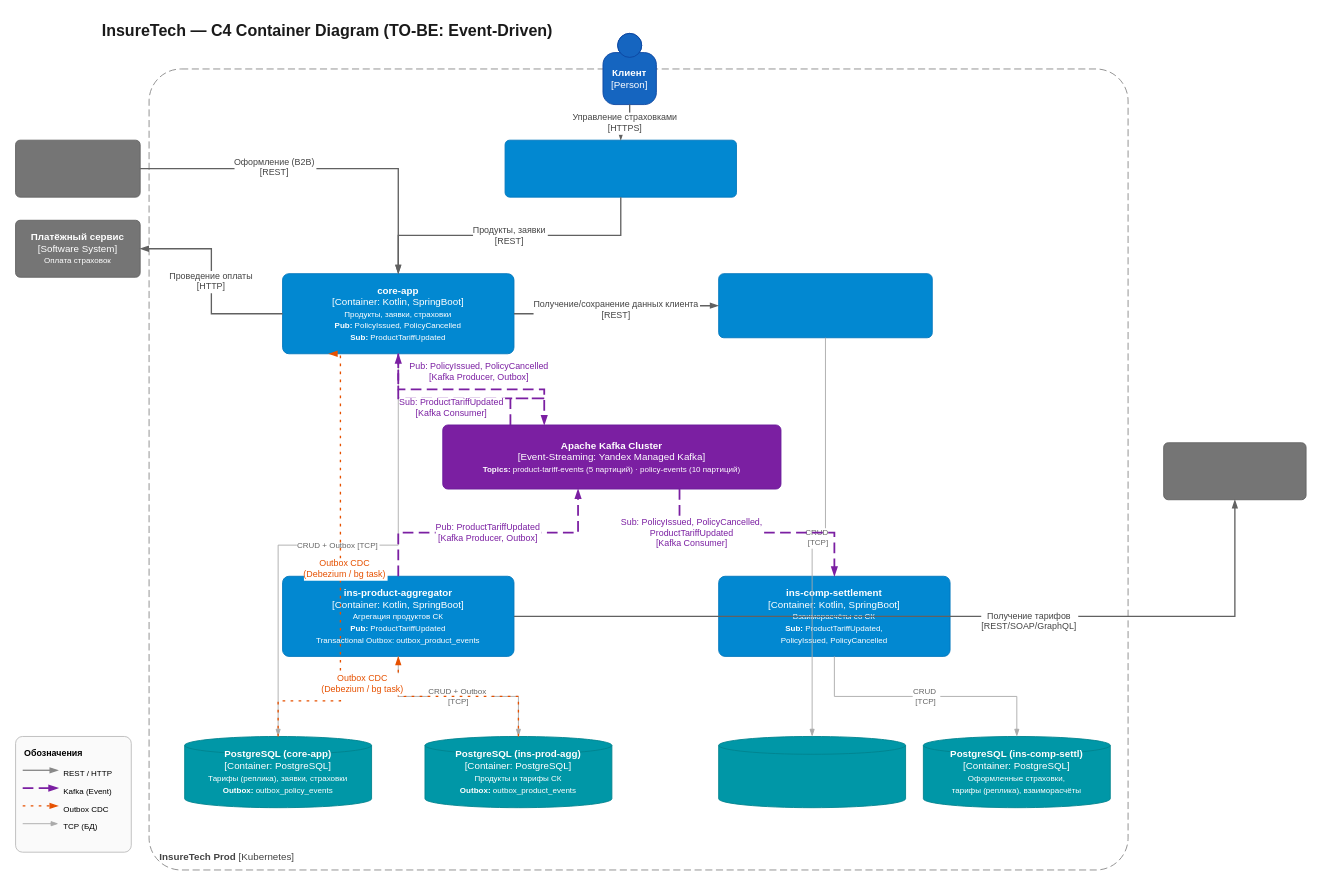
The diagram is 1322 pixels wide and 886 high, and some of its shapes have lost their labels. Each missing label, with the box of its shape:
client-info [Container: Kotlin, SpringBoot] Управление данными клиентов: (718, 273, 932, 338)
InsureTech Web [Container: JavaScript, React] Веб-интерфейс для клиентов: (504, 139, 736, 197)
PostgreSQL (client-info) [Container: PostgreSQL] ФИО, телефон, паспорт, адрес: (718, 736, 906, 808)
Партнёры B2B [Software System] Оформление страховок: (15, 139, 140, 197)
Системы СК (5→10) [Software System] API тарифов, андерайтинга: (1163, 442, 1306, 500)
